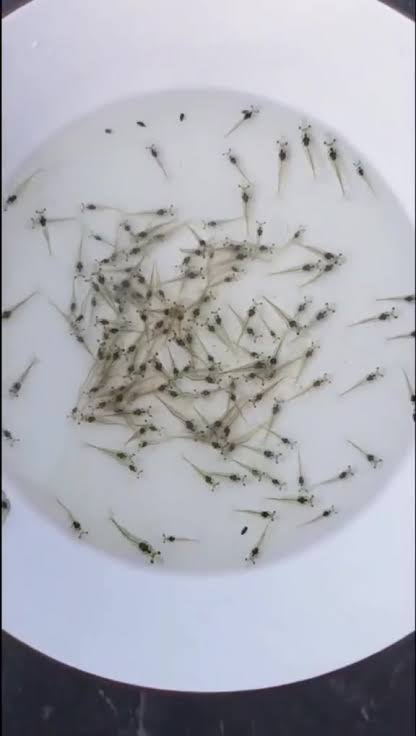shrimp-seed: (117, 520, 166, 576), (42, 497, 94, 537), (261, 291, 306, 337), (339, 428, 386, 470), (179, 456, 222, 501), (85, 438, 138, 472), (7, 361, 41, 406), (317, 456, 359, 491), (167, 401, 201, 442), (229, 439, 281, 465), (291, 453, 316, 506), (260, 421, 301, 453), (203, 461, 247, 490), (2, 176, 31, 220), (69, 409, 122, 433), (28, 213, 88, 234), (324, 133, 346, 190), (83, 272, 115, 311), (230, 301, 259, 344), (245, 534, 276, 574), (312, 298, 341, 340), (241, 292, 261, 352), (79, 196, 127, 221), (240, 386, 288, 410), (286, 290, 314, 331), (231, 457, 270, 486), (155, 528, 205, 550), (163, 357, 194, 392), (121, 347, 145, 392), (224, 143, 253, 180), (105, 375, 149, 399), (37, 205, 56, 260), (295, 371, 335, 397), (215, 360, 275, 377), (3, 297, 37, 327), (127, 418, 157, 452), (192, 404, 221, 439), (91, 265, 118, 302), (300, 122, 318, 177), (297, 506, 351, 524), (142, 141, 171, 174), (271, 130, 288, 186), (129, 431, 179, 450), (356, 362, 383, 397), (377, 284, 416, 308), (233, 339, 269, 365), (170, 333, 202, 362), (82, 226, 119, 251), (118, 400, 162, 421), (268, 493, 322, 510), (70, 241, 88, 292), (309, 243, 344, 269), (282, 256, 323, 278), (357, 306, 398, 328), (265, 396, 283, 446), (148, 355, 174, 389), (316, 253, 341, 288), (234, 107, 265, 135), (207, 305, 234, 337), (239, 504, 282, 524), (62, 331, 95, 357), (86, 398, 135, 415), (90, 335, 110, 376), (358, 159, 377, 202), (189, 383, 238, 399), (210, 399, 228, 442), (199, 318, 227, 345), (258, 316, 284, 345), (167, 248, 201, 270), (137, 206, 183, 222), (152, 303, 184, 326), (131, 269, 153, 302), (238, 181, 252, 232), (188, 222, 210, 254), (119, 244, 156, 263), (63, 277, 82, 314), (105, 343, 124, 380), (302, 341, 319, 382), (200, 215, 243, 231), (135, 309, 155, 343), (380, 326, 416, 344), (153, 273, 172, 307), (128, 230, 168, 246), (168, 267, 208, 283), (118, 216, 139, 246), (191, 288, 208, 324), (221, 239, 251, 259), (251, 214, 267, 250), (287, 222, 310, 247), (65, 313, 84, 343), (93, 253, 128, 269), (196, 360, 227, 378), (183, 322, 196, 364), (87, 311, 123, 325), (78, 383, 118, 395), (220, 268, 246, 286), (225, 249, 248, 269)
